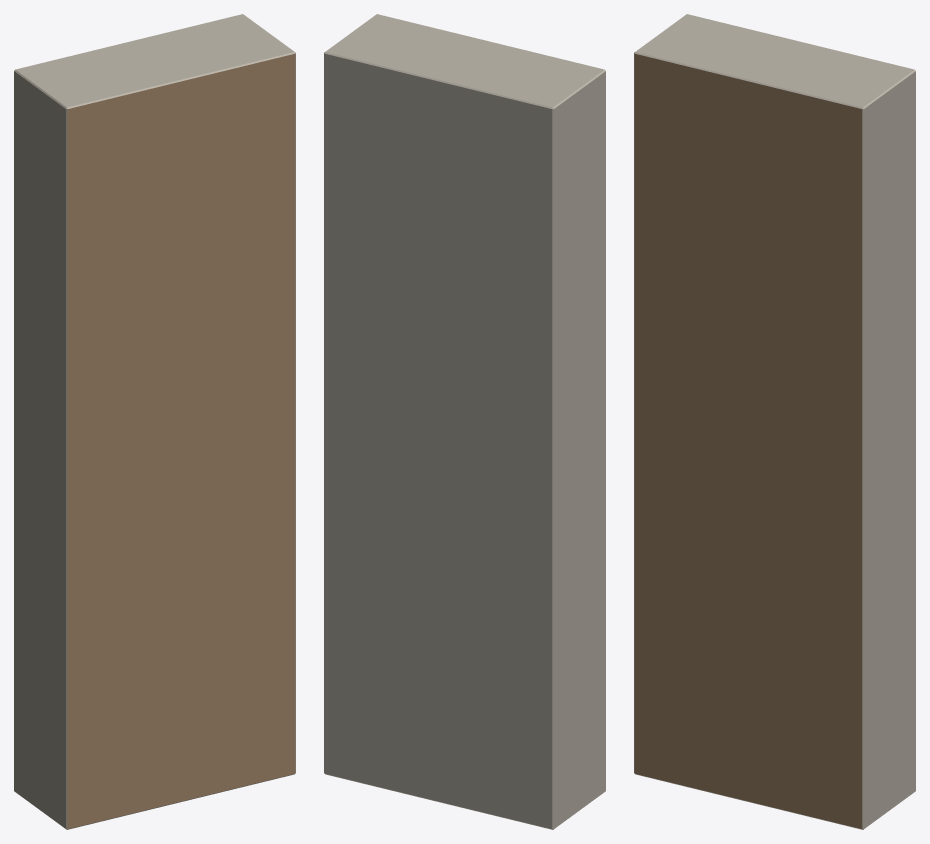
The model's file is arch_wall_ext_w100_h300.glb.
3 views of the same model, side by side, from view 1: azimuth 30°, elevation 25°; view 2: azimuth 150°, elevation 25°; view 3: azimuth 330°, elevation 25° (orthographic).
Parts seen in each view (by area): view 1: Wall; view 2: Wall; view 3: Wall.
Boxes of the visible parts, <box> form: Wall: <box>14,14,295,829</box>; Wall: <box>324,14,605,829</box>; Wall: <box>634,14,915,829</box>.
Size of what is drawn, in the model's own units: 1 by 3 by 0.4.
